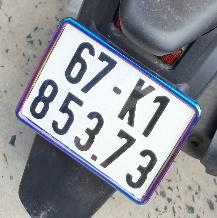1: (137, 89, 177, 144)
3: (121, 143, 163, 193), (70, 106, 111, 154)
5: (46, 86, 90, 141)
6: (59, 35, 101, 87)
7: (77, 46, 123, 99), (97, 125, 142, 174)
8: (25, 73, 66, 124)
K: (114, 73, 160, 132)
